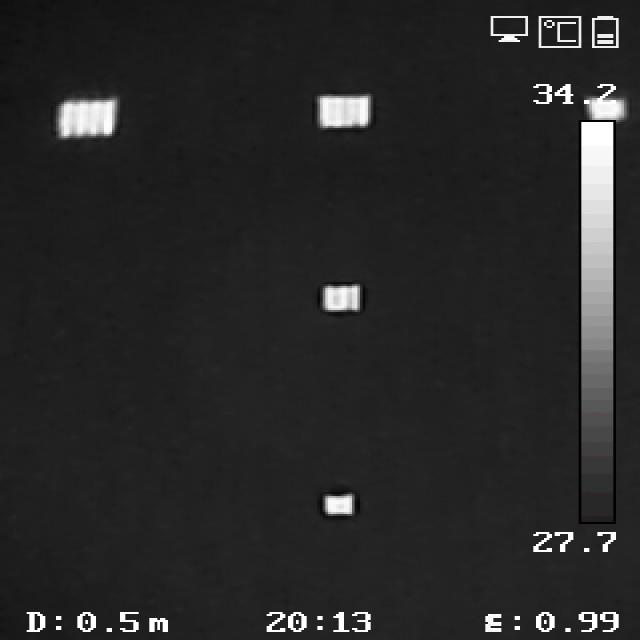Indistinguishable 4-bar target: (330, 497, 350, 514)
threshold 4-bar target: (61, 103, 115, 135), (319, 96, 368, 127), (324, 290, 359, 312)
